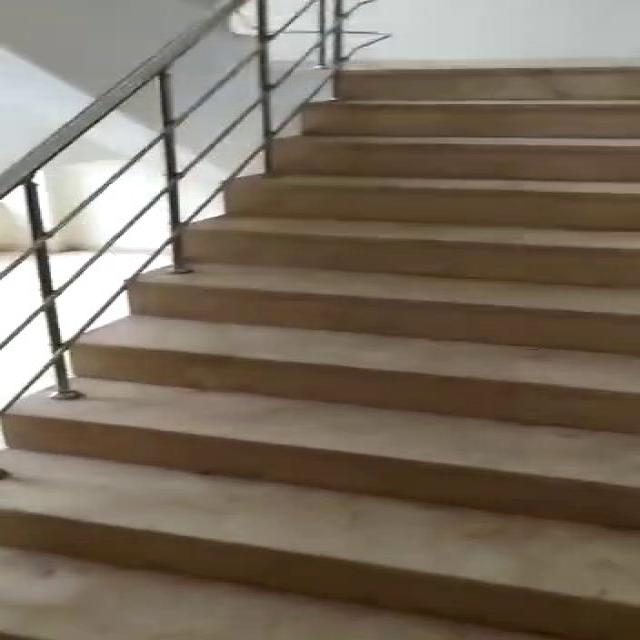upstair: (4, 64, 640, 640)
